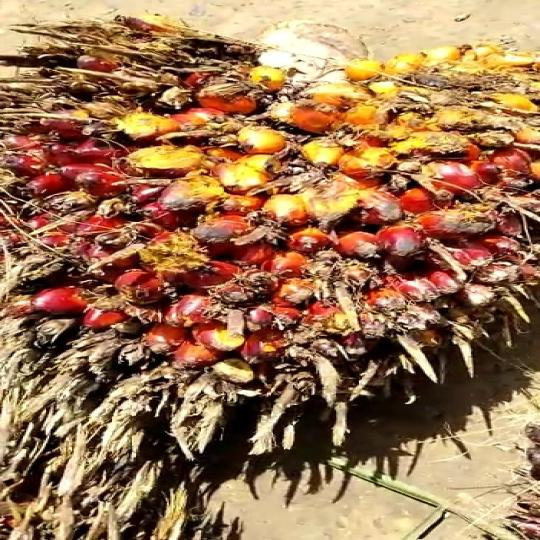masak: (0, 4, 540, 460)
